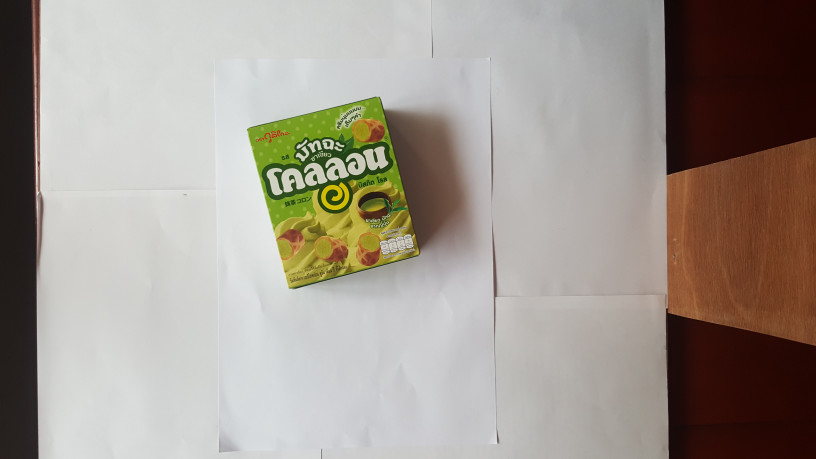collon-matcha: (244, 94, 423, 292)
